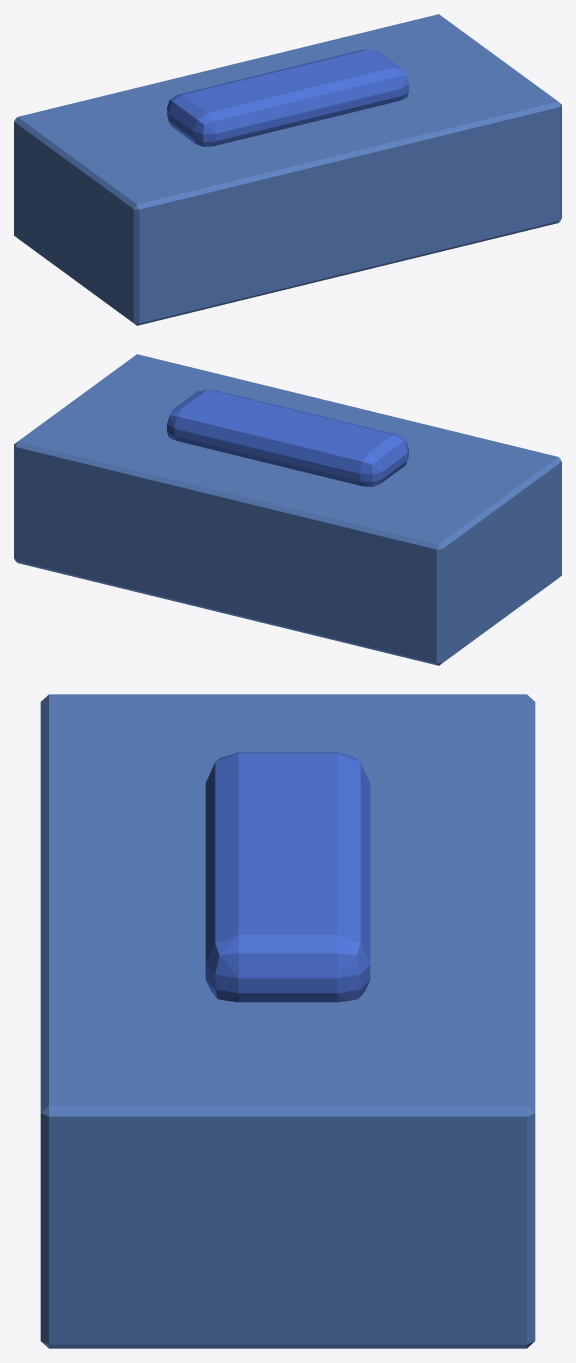
The model's file is caixa_luvas.obj.
3 views of the same model, one above another, from view 1: azimuth 30°, elevation 25°; view 2: azimuth 150°, elevation 25°; view 3: azimuth 270°, elevation 25° (orthographic). The views are drawn at different scales.
Visible parts, largest first — view 1: caixa_luvas; view 2: caixa_luvas; view 3: caixa_luvas.
Boxes of the visible parts, box(x1,y1,x2,y2) form: caixa_luvas: box(14, 14, 561, 325); caixa_luvas: box(14, 354, 561, 665); caixa_luvas: box(40, 694, 535, 1348).
Bounding box in the file's own units: 0.24 × 0.08 × 0.12.
